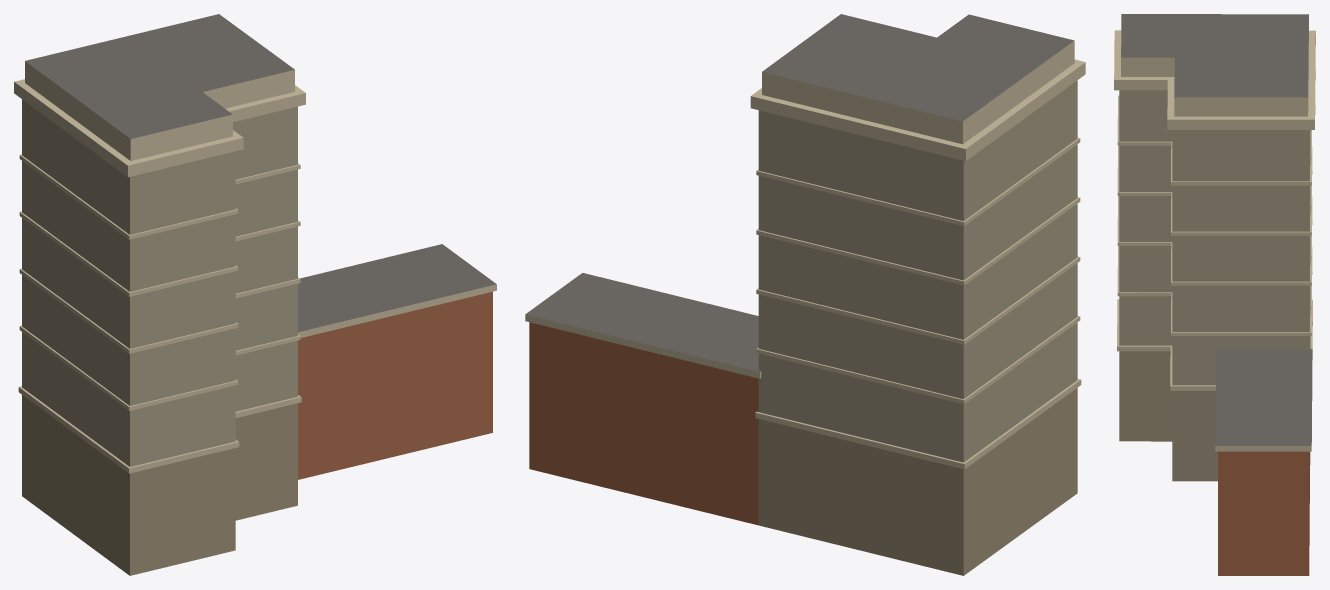
Rendered from kimpton_hotel_monaco_slc.glb.
The picture shows the model from 3 angles, left to right: view 1: azimuth 30°, elevation 25°; view 2: azimuth 150°, elevation 25°; view 3: azimuth 270°, elevation 25°; orthographic projection. The views are drawn at different scales.
Visible parts, largest first — view 1: Kimpton_Hotel_Monaco_Slc; view 2: Kimpton_Hotel_Monaco_Slc; view 3: Kimpton_Hotel_Monaco_Slc.
Boxes of the visible parts, x1=… form: Kimpton_Hotel_Monaco_Slc: x1=14, y1=14, x2=496, y2=575; Kimpton_Hotel_Monaco_Slc: x1=525, y1=14, x2=1085, y2=575; Kimpton_Hotel_Monaco_Slc: x1=1114, y1=14, x2=1315, y2=575.
Bounding box in the file's own units: 68.87 × 67.2 × 32.09.
